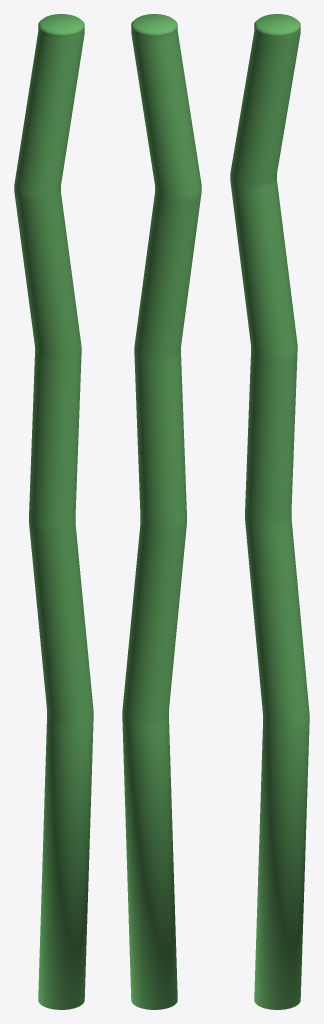
Rendered from Greens1.glb.
3 views of the same model, side by side, from view 1: azimuth 30°, elevation 25°; view 2: azimuth 150°, elevation 25°; view 3: azimuth 330°, elevation 25° (orthographic).
Parts seen in each view (by area): view 1: Circle.002; view 2: Circle.002; view 3: Circle.002.
Part boxes in pixels (x1,y1,x2,y2): Circle.002: (14,14,93,1009); Circle.002: (122,14,201,1009); Circle.002: (230,14,309,1009).
Size of the model in its own units: 0.3997 by 5.11 by 0.221.
